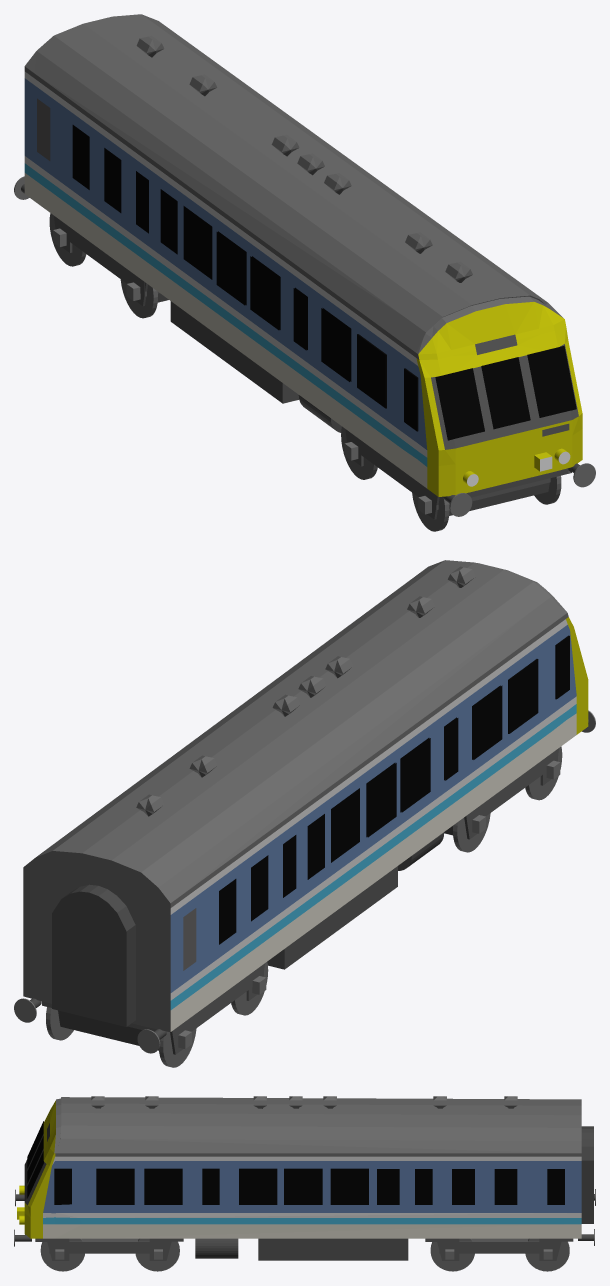
The model's file is BR-101-dmbs-rr.dae.
3 renders of one model, top to bottom at view 1: azimuth 30°, elevation 25°; view 2: azimuth 150°, elevation 25°; view 3: azimuth 270°, elevation 25°, orthographic. The views are drawn at different scales.
Parts seen in each view (by area): view 1: BR-cl101-front_rear, Cube_001, Cube_043, Cube_043_001, Cube_061, Cylinder_009; view 2: BR-cl101-front_rear, Cube, Cube_001, Cube_060_001, Cube_043_001, Cube_043, Cylinder_008_001, Cylinder_008; view 3: BR-cl101-front_rear, Cube_001, Cube_043, Cube_043_001, Cube, Cylinder_002, Cylinder_011_001, Cylinder_011, Cylinder_010_001, Cylinder_010, Cube_061_001, Cube_061 (+2 smaller).
Boxes of the visible parts, x1,y1,x2,y2 form: BR-cl101-front_rear: (24, 14, 582, 497); Cube_001: (170, 301, 298, 403); Cube_043: (361, 441, 550, 509); Cube_043_001: (70, 227, 159, 296); Cube_061: (427, 482, 549, 519); Cylinder_009: (412, 492, 449, 531); BR-cl101-front_rear: (23, 560, 588, 1032); Cube: (52, 884, 135, 1026); Cube_001: (267, 866, 397, 969); Cube_060_001: (42, 1001, 188, 1054); Cube_043_001: (188, 964, 263, 1031); Cube_043: (482, 749, 557, 816); Cylinder_008_001: (159, 1028, 196, 1067); Cylinder_008: (453, 813, 490, 852); BR-cl101-front_rear: (24, 1096, 581, 1238); Cube_001: (258, 1238, 408, 1260); Cube_043: (49, 1238, 168, 1253); Cube_043_001: (439, 1238, 557, 1253); Cube: (581, 1126, 593, 1223); Cylinder_002: (195, 1238, 238, 1258); Cylinder_011_001: (525, 1238, 569, 1271); Cylinder_011: (135, 1238, 179, 1271); Cylinder_010_001: (430, 1238, 474, 1271); Cylinder_010: (40, 1238, 84, 1271); Cube_061_001: (425, 1238, 459, 1260); Cube_061: (35, 1238, 69, 1260).
Size of the model in its own units: 2.04 by 10.32 by 3.05.
